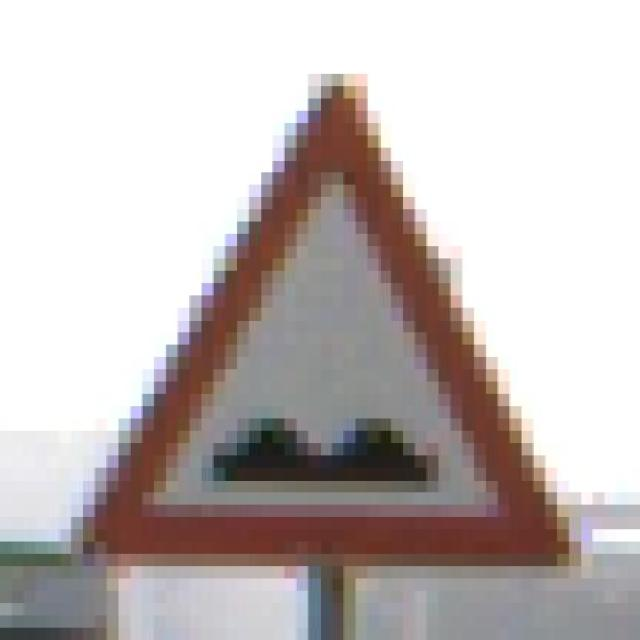Uneven Road: (70, 74, 582, 578)
